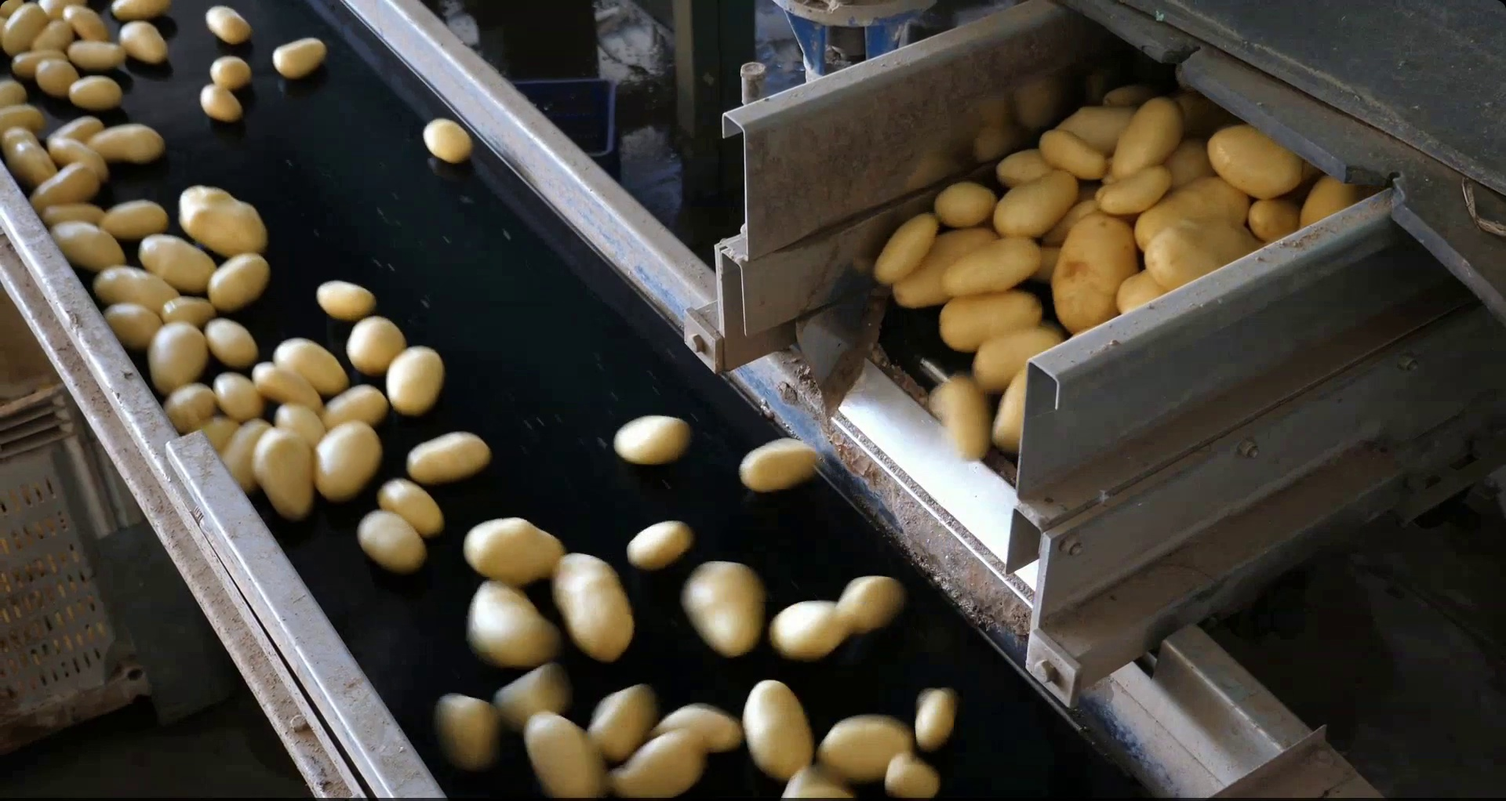potato: (1042, 203, 1148, 337), (1129, 164, 1262, 263), (1139, 212, 1282, 298), (879, 218, 997, 313), (544, 546, 636, 665), (453, 572, 564, 669), (673, 558, 769, 663), (1104, 85, 1199, 183), (1202, 114, 1307, 202), (595, 725, 715, 801), (927, 284, 1053, 355), (450, 513, 570, 587), (807, 709, 920, 785), (741, 672, 817, 785), (173, 180, 273, 263), (518, 706, 605, 801), (246, 424, 324, 527), (937, 228, 1055, 296), (987, 167, 1090, 242), (424, 685, 507, 777), (482, 655, 577, 734), (967, 321, 1068, 393), (304, 414, 384, 504), (923, 368, 995, 465), (580, 679, 662, 764), (639, 694, 748, 756), (866, 203, 941, 291), (831, 562, 915, 640), (765, 590, 852, 665), (400, 422, 496, 486), (134, 228, 219, 298), (985, 363, 1046, 459), (730, 437, 828, 495), (351, 504, 431, 575), (85, 259, 184, 316), (145, 316, 212, 399), (1293, 160, 1370, 232), (1052, 95, 1137, 160), (602, 411, 698, 467), (18, 158, 105, 219), (1031, 117, 1109, 185), (268, 331, 349, 396), (384, 340, 448, 421), (214, 414, 276, 497), (45, 217, 132, 274), (200, 248, 275, 313), (621, 511, 699, 573), (374, 473, 446, 539), (246, 356, 326, 415), (314, 377, 391, 437), (342, 313, 409, 379), (1098, 161, 1175, 218), (96, 294, 169, 353), (770, 759, 871, 801), (83, 118, 167, 166), (93, 193, 174, 242), (1, 125, 60, 192), (931, 175, 1000, 232), (879, 745, 948, 801), (157, 376, 219, 437), (307, 274, 378, 327), (908, 682, 958, 756), (200, 312, 261, 370), (44, 135, 113, 185), (1160, 133, 1221, 189), (270, 399, 335, 451), (1244, 189, 1304, 245), (417, 112, 476, 168), (209, 364, 264, 424), (991, 140, 1058, 189), (267, 32, 332, 82), (1114, 266, 1175, 319), (179, 412, 244, 458), (116, 16, 173, 68), (3, 44, 75, 82), (58, 36, 130, 73), (1, 1, 50, 55), (64, 72, 130, 111), (47, 110, 107, 152), (38, 198, 114, 230), (58, 2, 114, 45), (202, 49, 254, 95), (29, 55, 82, 100), (198, 4, 254, 46), (157, 293, 219, 329), (24, 17, 81, 56), (196, 82, 244, 125), (1, 100, 48, 140), (106, 1, 186, 22), (1034, 234, 1055, 289), (1, 72, 33, 107), (37, 1, 87, 20)
